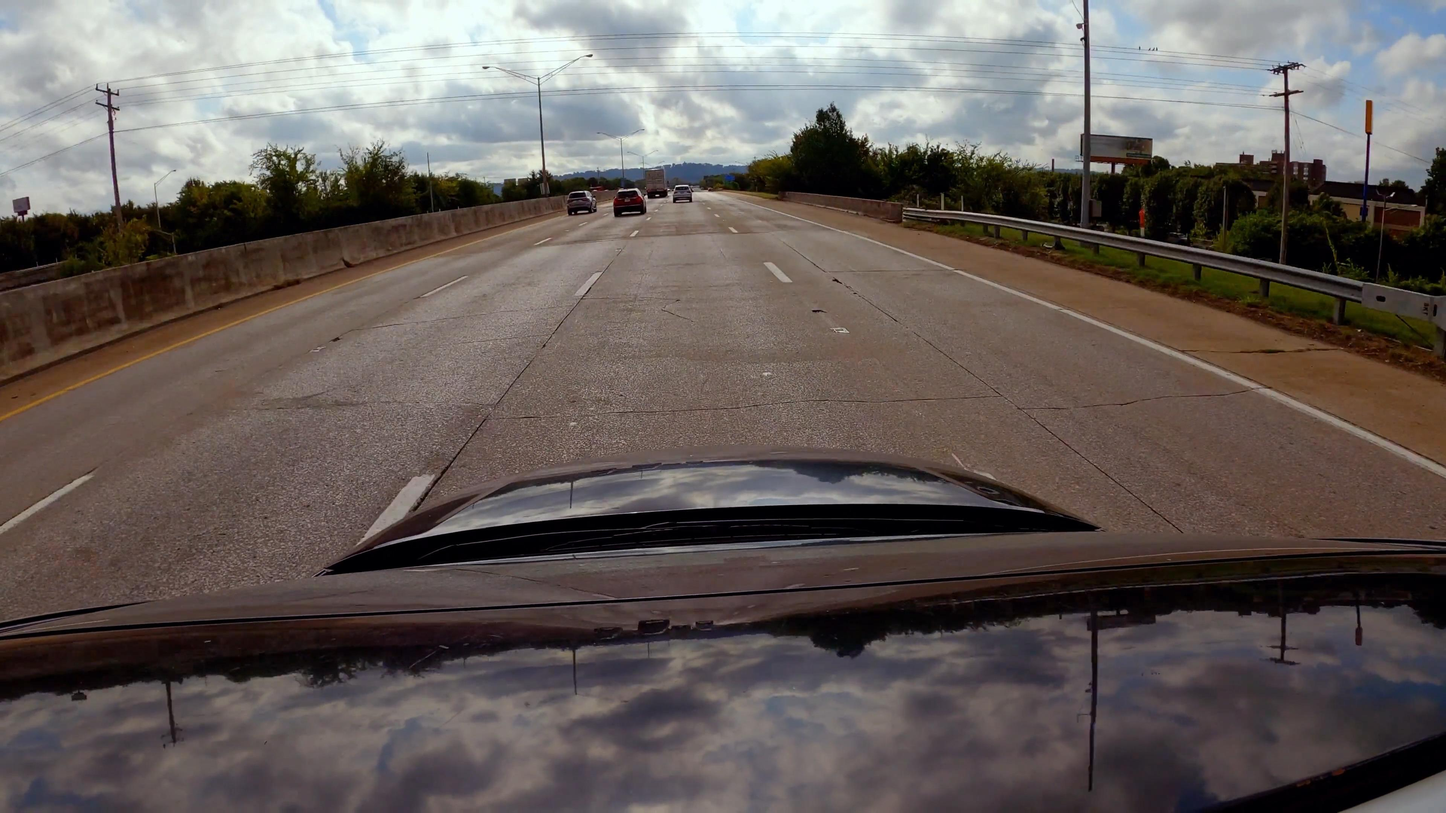dry: (0, 190, 1446, 624)
